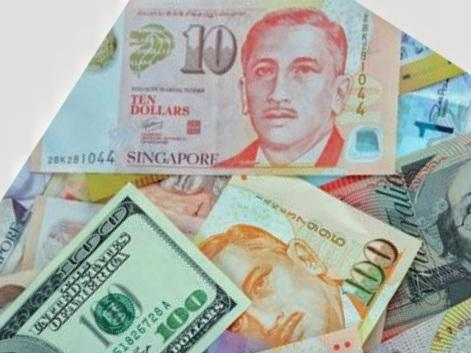10SingaporeDollar: (35, 0, 397, 171)
